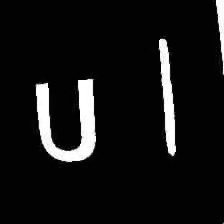LTR_U: (28, 70, 110, 168)
